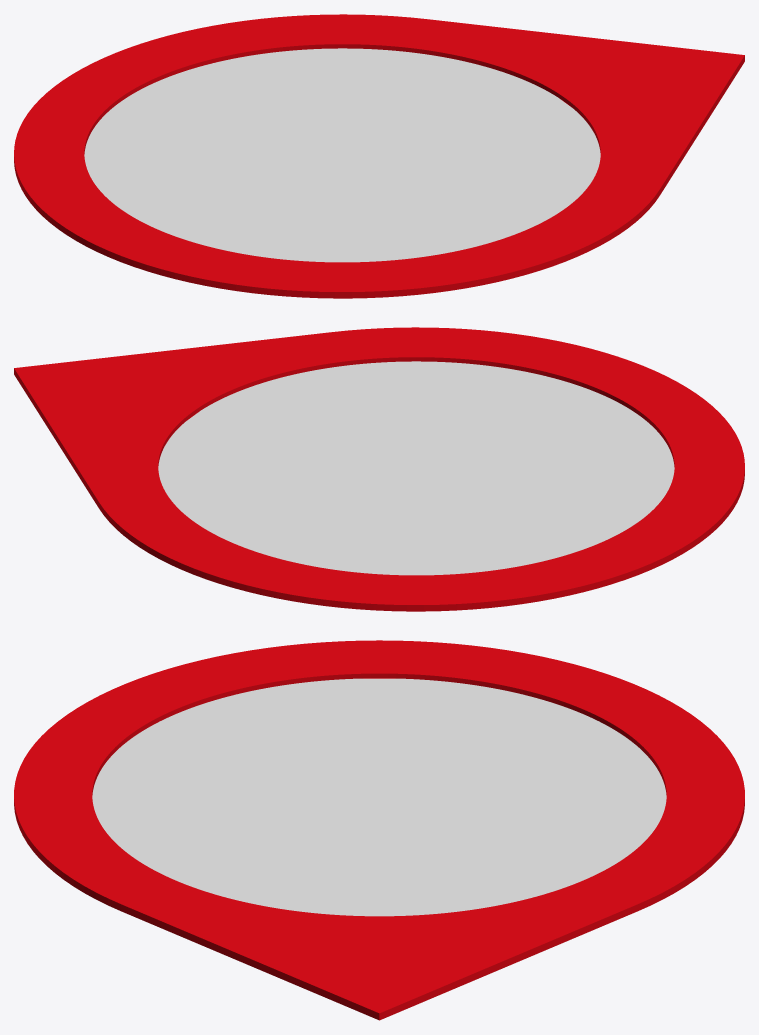
The model's file is footprint.dae.
The picture shows the model from 3 angles, top to bottom: view 1: azimuth 30°, elevation 25°; view 2: azimuth 150°, elevation 25°; view 3: azimuth 270°, elevation 25°; orthographic projection. The views are drawn at different scales.
Parts seen in each view (by area): view 1: footprint; view 2: footprint; view 3: footprint.
Part boxes in pixels (x1,y1,x2,y2): footprint: (14,14,744,298); footprint: (14,327,744,611); footprint: (14,640,744,1020).
Bounding box in the file's own units: 338 × 280 × 3.
